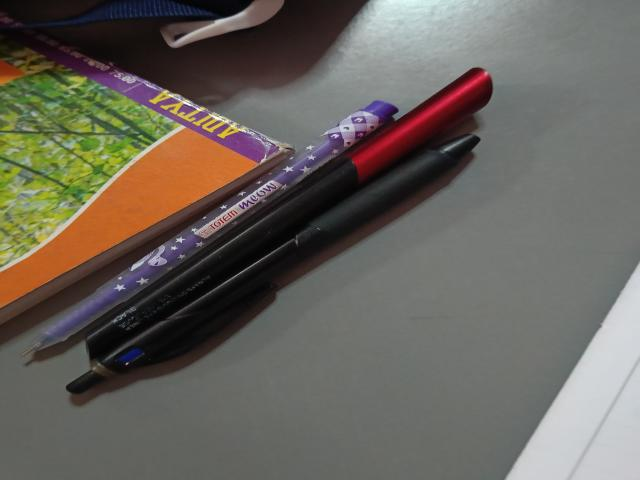PEN: (53, 35, 525, 366), (42, 106, 499, 418), (0, 66, 416, 367)
